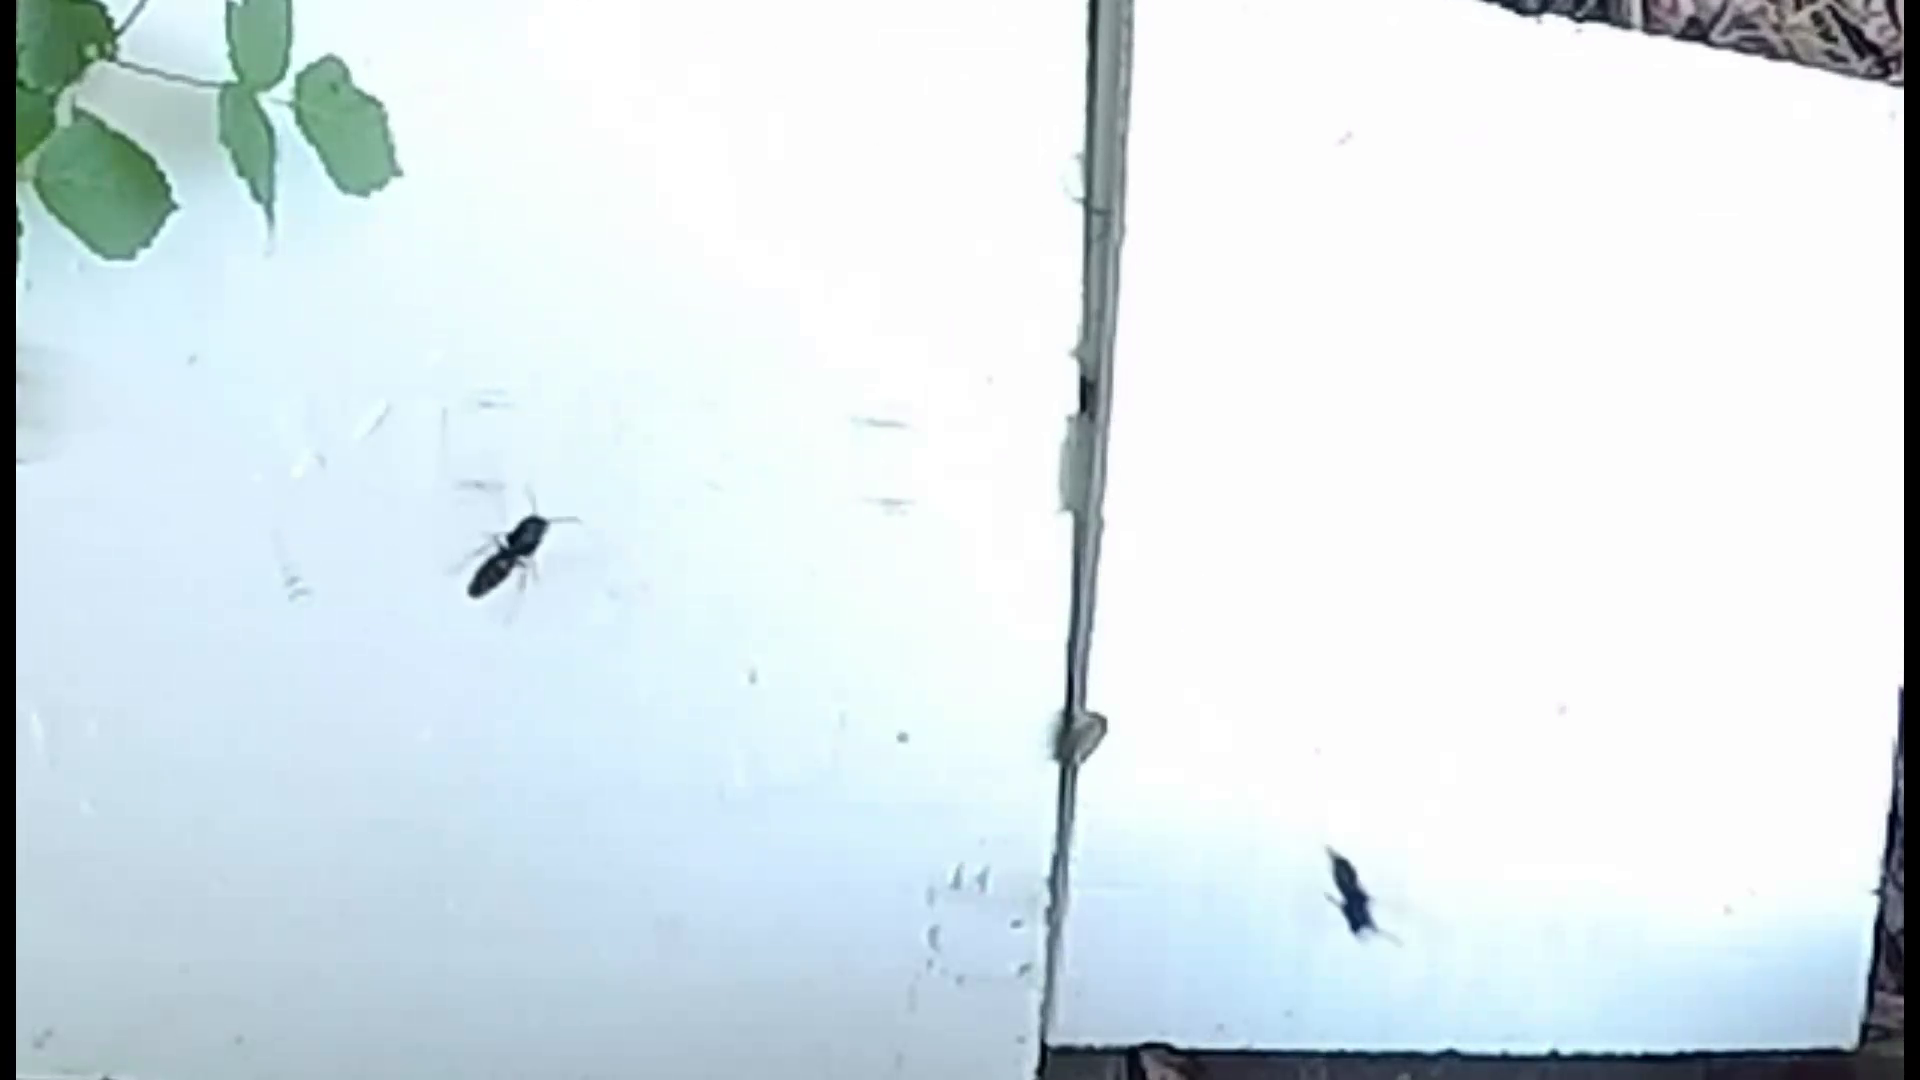Asian_hornets: (431, 476, 588, 625)
